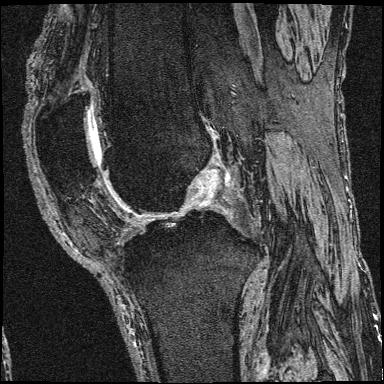SagKneeJointArea: (33, 88, 268, 281)
